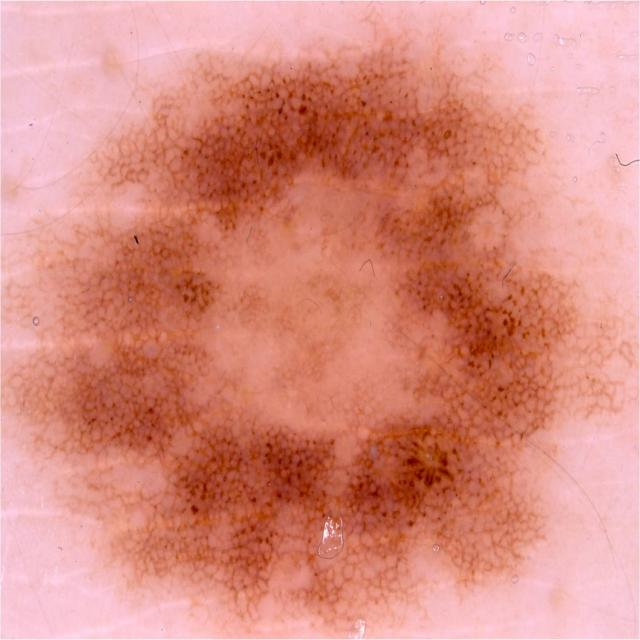Benign: (11, 46, 629, 628)
